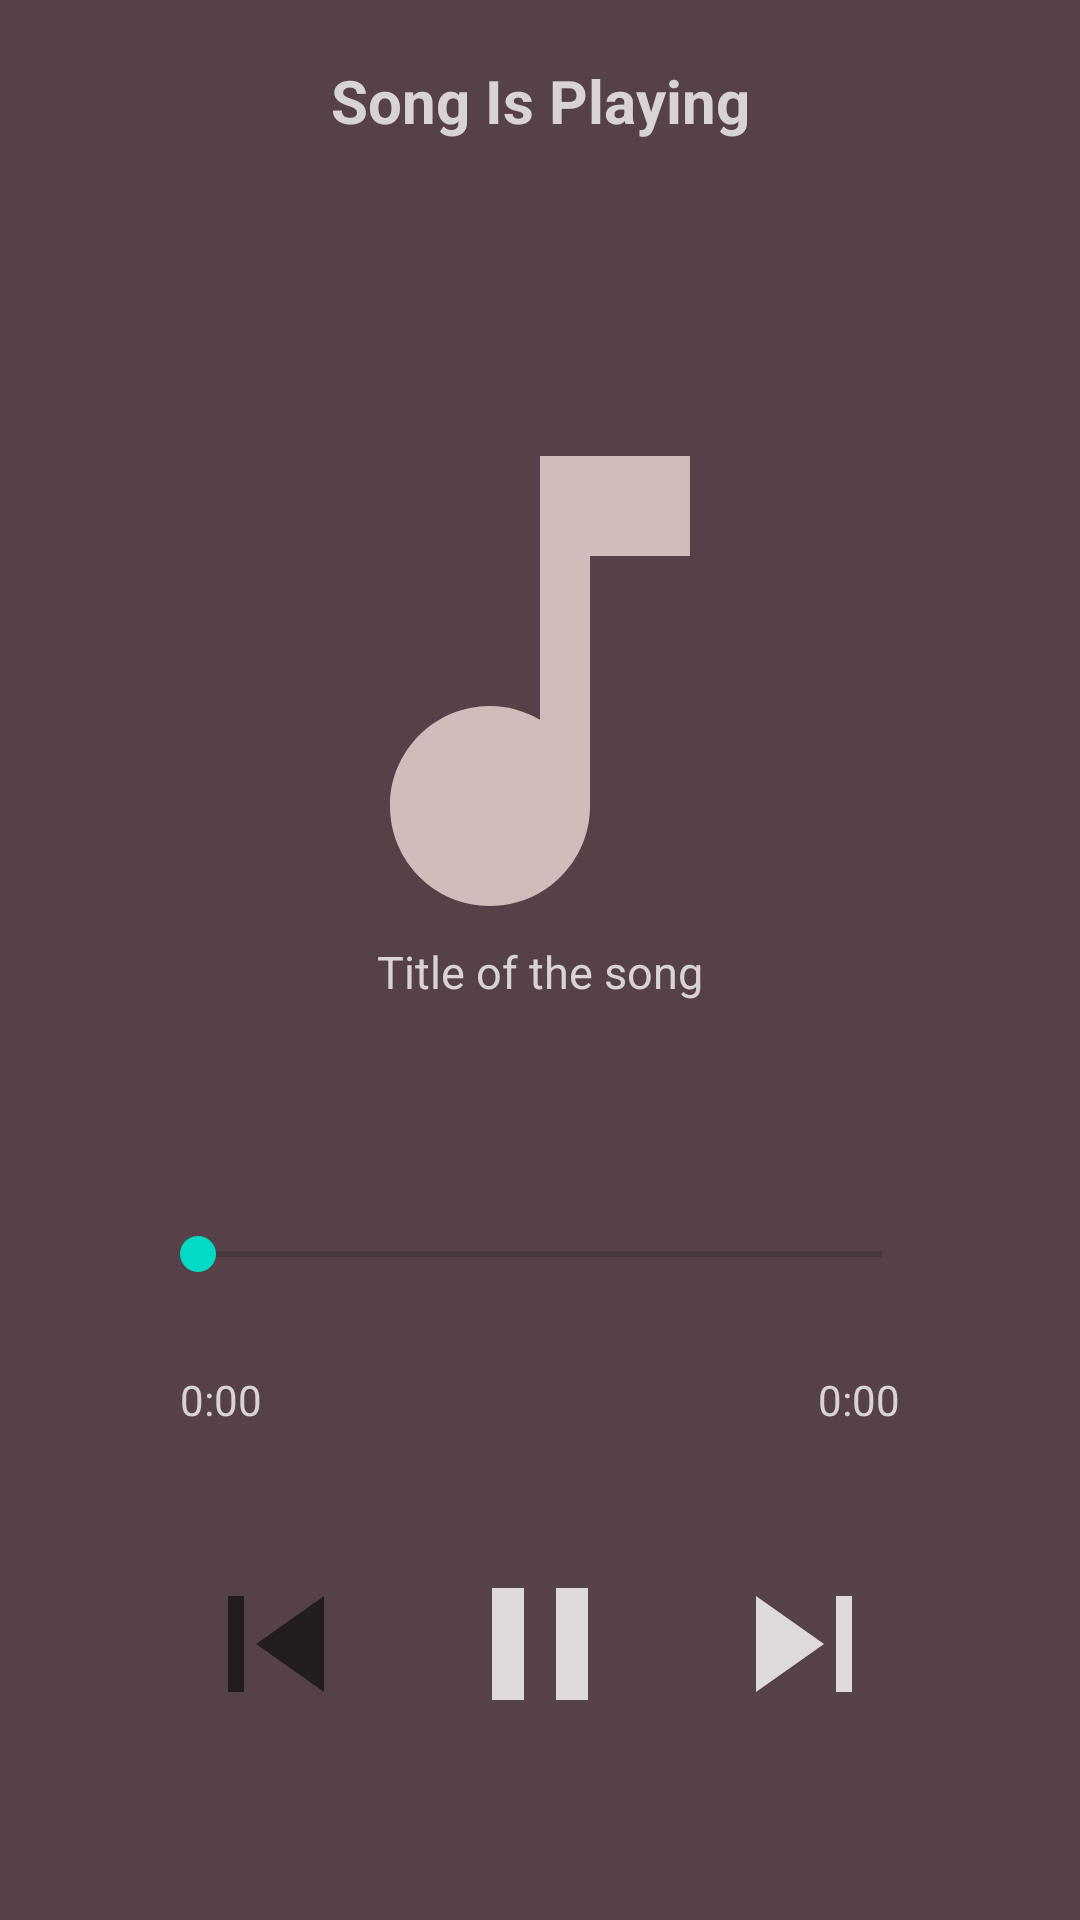

Icons on this 1080×1920 Android screen, each with the point to tap as (x=x, y=y):
pause: (x=540, y=1644)
skip next: (x=804, y=1644)
skip previous: (x=276, y=1644)
